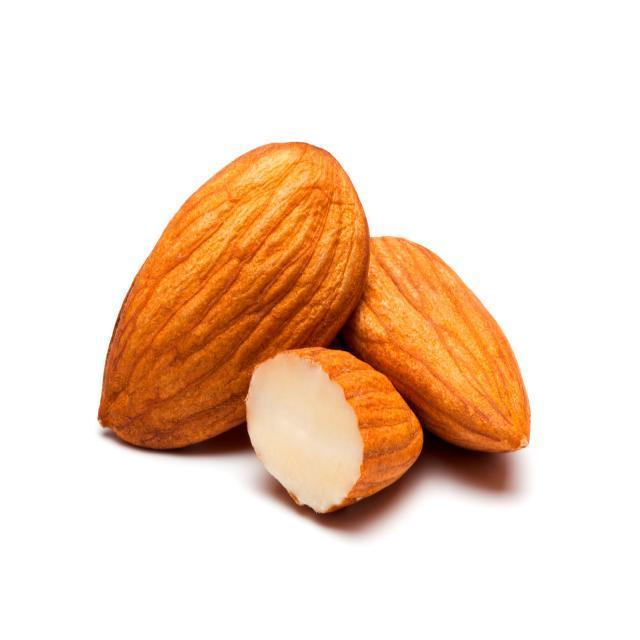almond: (97, 138, 370, 450), (347, 237, 533, 453)
